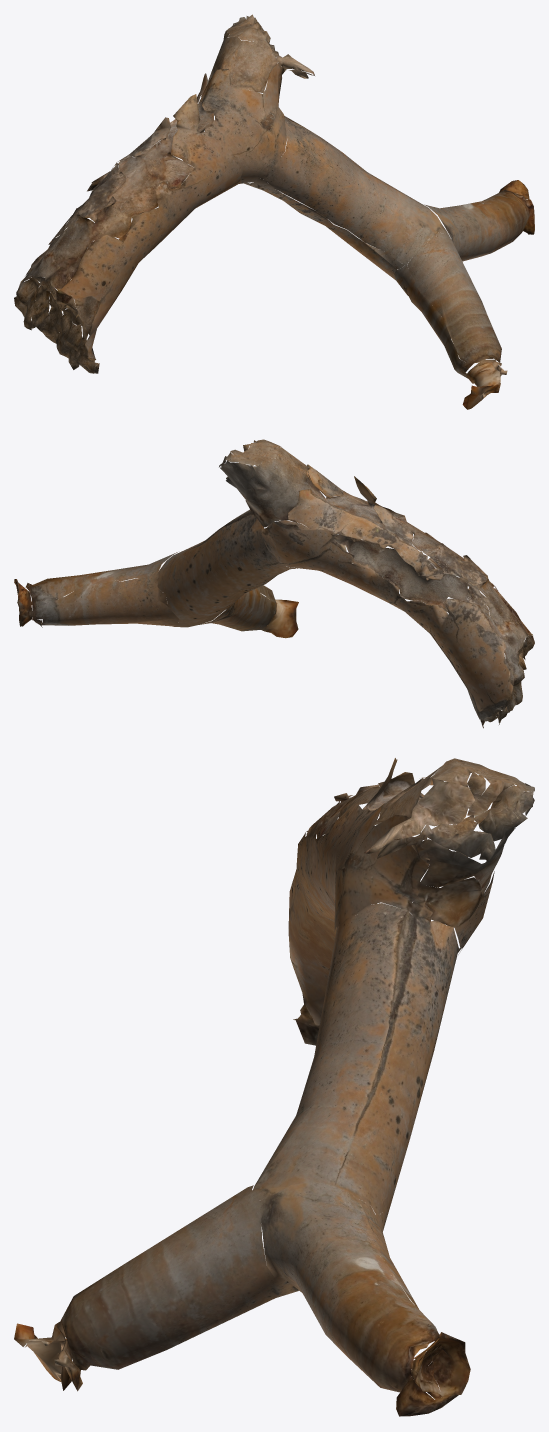
Rendered from dead_quiver_branch_01.glb.
3 renders of one model, top to bottom at view 1: azimuth 30°, elevation 25°; view 2: azimuth 150°, elevation 25°; view 3: azimuth 270°, elevation 25°, orthographic. The views are drawn at different scales.
Parts seen in each view (by area): view 1: dead_quiver_branch_01; view 2: dead_quiver_branch_01; view 3: dead_quiver_branch_01.
Boxes of the visible parts, x1,y1,x2,y2 form: dead_quiver_branch_01: (14, 14, 534, 409); dead_quiver_branch_01: (14, 439, 534, 728); dead_quiver_branch_01: (14, 758, 534, 1416).
Size of the model in its own units: 0.4384 by 0.2546 by 0.2261.
1 material, 1 textured.
